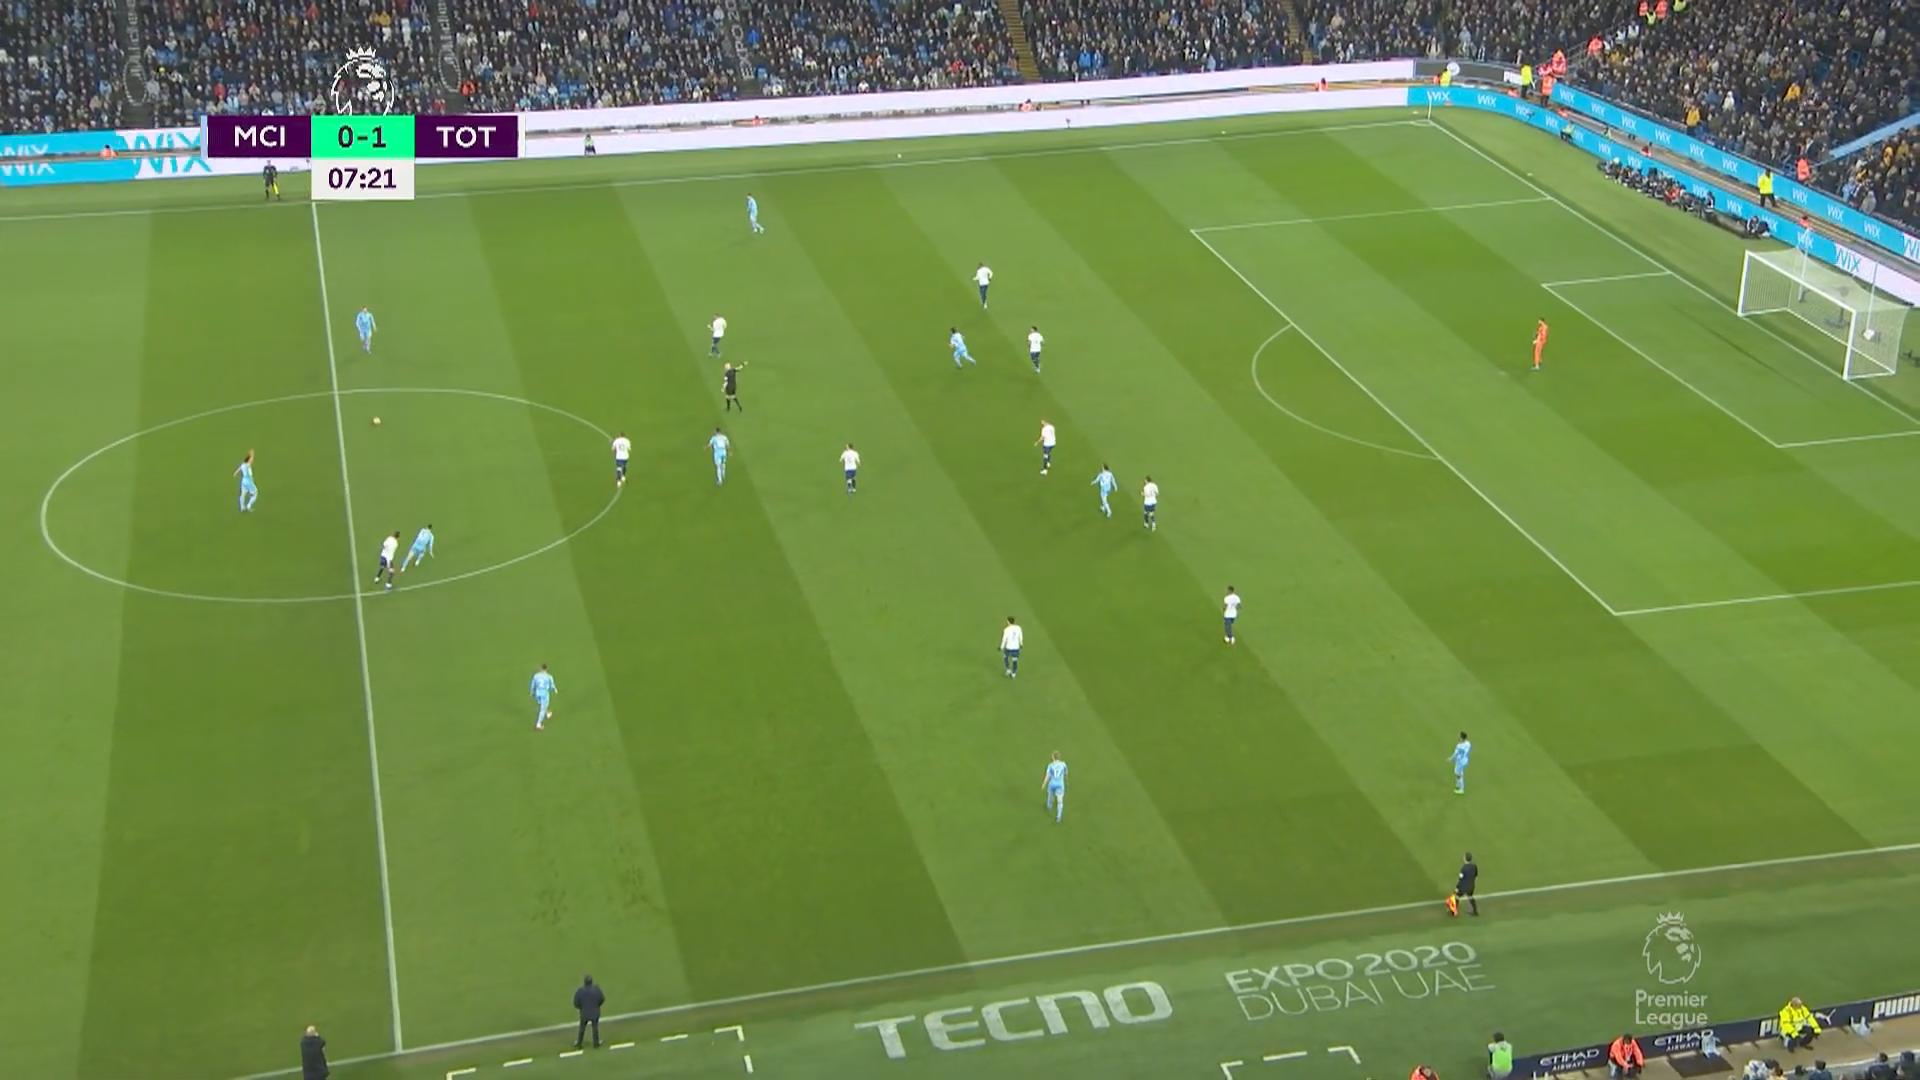ball: (372, 417, 382, 426)
goalkeeper: (1531, 314, 1549, 367)
player: (1040, 749, 1067, 823), (528, 662, 557, 730), (372, 529, 401, 590), (400, 522, 435, 572), (232, 449, 258, 512), (1446, 730, 1471, 794), (997, 615, 1022, 678), (1090, 462, 1116, 518), (707, 425, 730, 485), (1033, 417, 1056, 475), (1220, 584, 1241, 644), (609, 430, 631, 487), (948, 326, 976, 369), (1139, 474, 1159, 531), (839, 441, 860, 494), (354, 304, 375, 354), (972, 262, 993, 310), (1025, 323, 1044, 373), (706, 312, 726, 358), (745, 191, 764, 234)
referee: (1449, 850, 1479, 916), (719, 359, 746, 410)
staff: (572, 973, 604, 1048)
